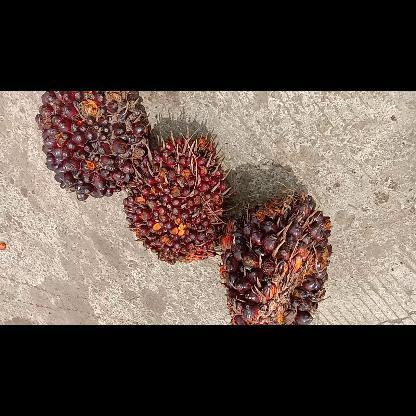Kurang masak: (122, 129, 232, 265), (34, 90, 152, 200)
TBS masak: (221, 192, 331, 322)
